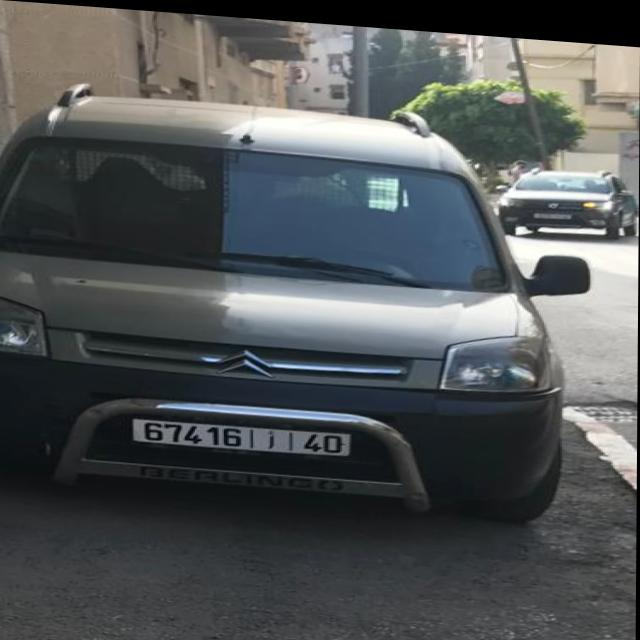License-Plate: (133, 417, 351, 450)
